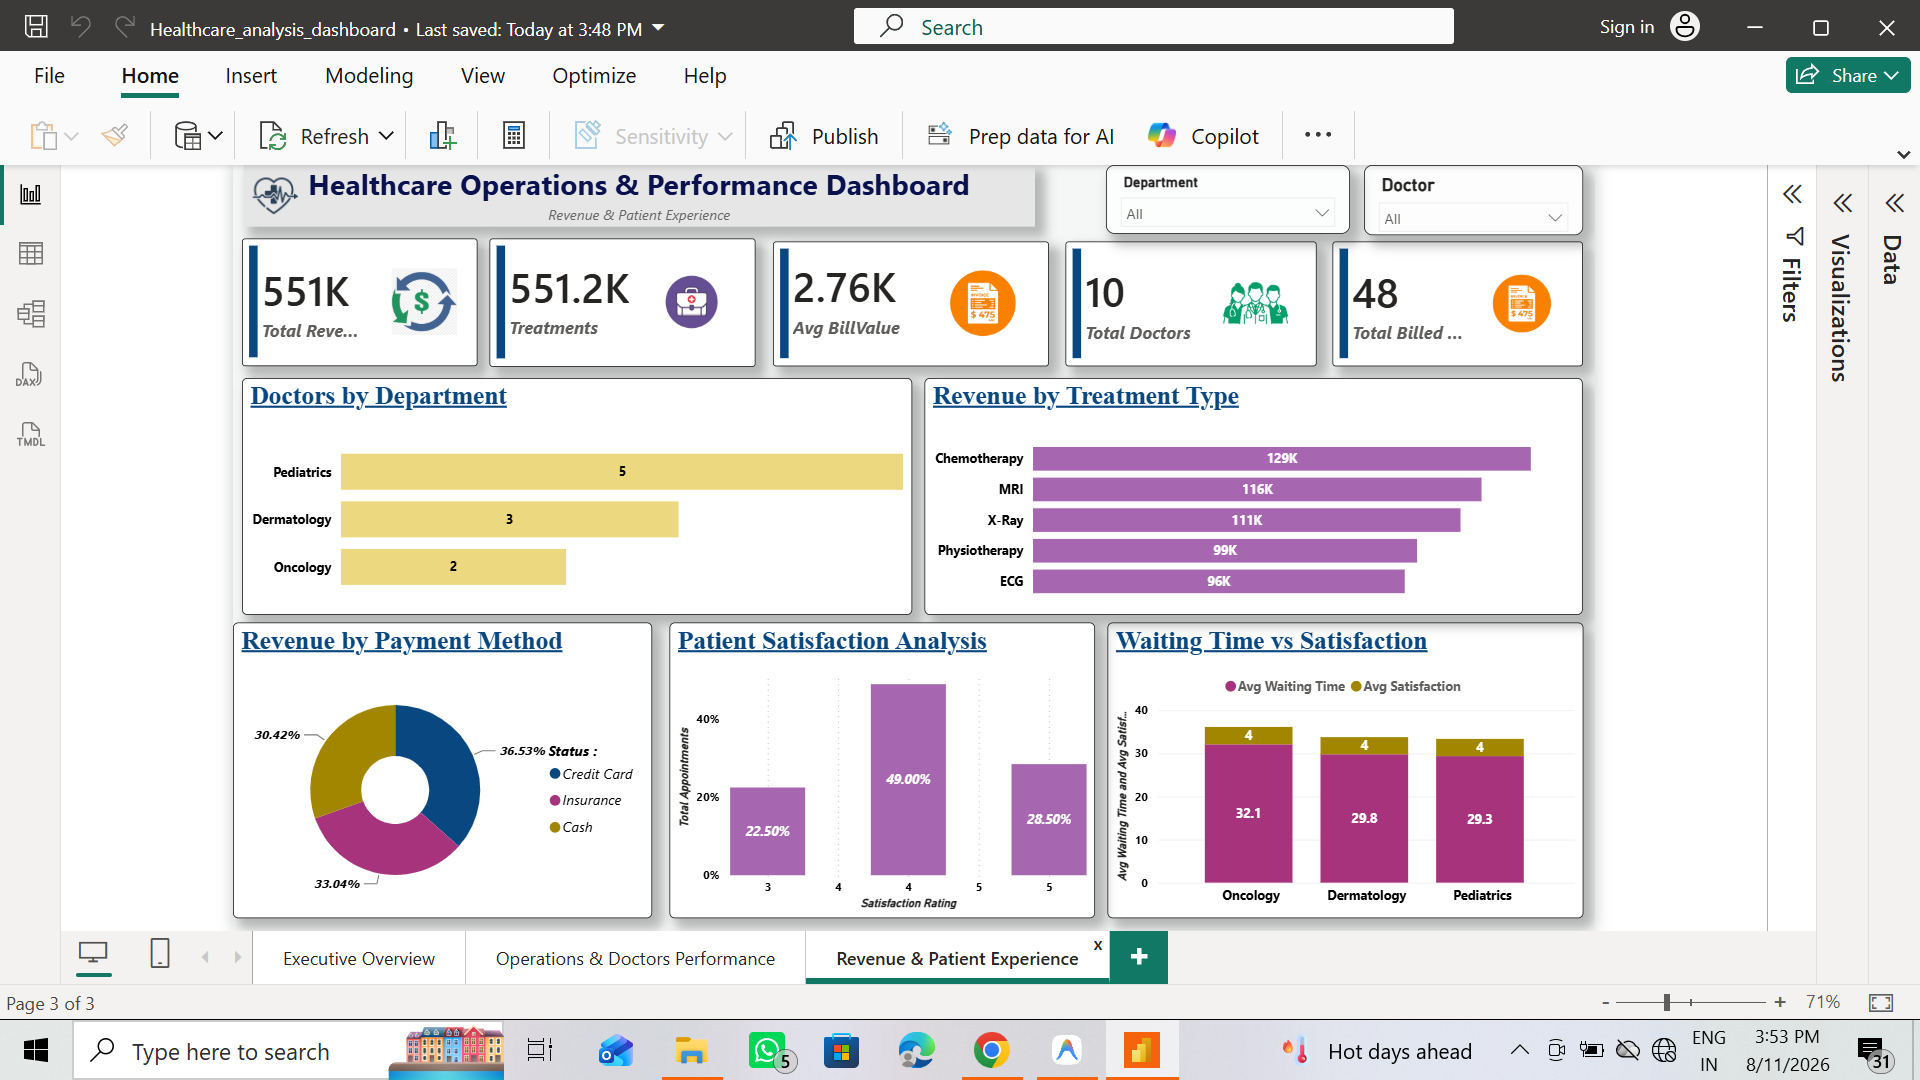

The dashboard page shown, as its layout file describes it:
{"tool":"powerbi","page":{"name":"Revenue & Patient Experience","canvas":[1280,720],"ordinal":2},"visuals":[{"type":"textbox","title":"Healthcare Operations & Performance Dashboard","box":[9.4,0,744,57.8],"z":0},{"type":"image","box":[0,0,76.6,57.8],"z":1000},{"type":"cardVisual","fields":{"Data":["All measures.Total Revenue"]},"box":[8.5,69.1,221.4,119.8],"z":2000},{"type":"cardVisual","fields":{"Data":["All measures.Treatments"]},"box":[240.7,68.8,250.1,120.4],"z":3000},{"type":"cardVisual","fields":{"Data":["All measures.Avg BillValue"]},"box":[508,71.9,259.5,117.2],"z":4000},{"type":"cardVisual","fields":{"Data":["All measures.Total Doctors"]},"box":[783.1,71.9,236,117.2],"z":5000},{"type":"cardVisual","fields":{"Data":["All measures.Total Billed Patients"]},"box":[1033.5,71.9,235.5,117],"z":6000},{"type":"slicer","fields":{"Values":["doctors.first_name"]},"box":[1063.1,0,205.9,66.3],"z":7000},{"type":"slicer","fields":{"Values":["doctors.specialization"]},"box":[820.9,0,229.3,64.7],"z":8000},{"type":"barChart","title":"Doctors by Department","fields":{"Category":["doctors.specialization"],"Y":["All measures.Total Doctors"]},"box":[9.1,199.9,629.9,222.6],"z":9000},{"type":"lineStackedColumnComboChart","title":"Waiting Time vs Satisfaction","fields":{"Category":["doctors.specialization"],"Y":["All measures.Avg Waiting Time","All measures.Avg Satisfaction"]},"box":[821.4,430.6,447.4,277.9],"z":10000},{"type":"donutChart","title":"Revenue by Payment Method","fields":{"Category":["billing.payment_method"],"Y":["All measures.Total Revenue"]},"box":[0,430.6,393.9,277.9],"z":11000},{"type":"clusteredBarChart","title":"Revenue by Treatment Type","fields":{"Category":["treatments.treatment_type"],"Y":["All measures.Total Revenue"]},"box":[650.4,200,618.4,222.9],"z":12000},{"type":"clusteredColumnChart","title":"Patient Satisfaction Analysis","fields":{"Category":["appointments.Satisfaction Rating"],"Y":["All measures.Total Appointments"]},"box":[410.7,430.6,400,277.9],"z":13000}]}

Visuals, with their boxes on the page's 1280x720 design canvas (x1, y1, x2, y2). These are canvas units, not pixel positions in the 1920x1080 screenshot, which may show the page scaled, cropped or inside an application window:
"Healthcare Operations & Performance Dashboard" textbox: 9:0:753:58
image: 0:0:77:58
cardVisual - All measures.Total Revenue: 8:69:230:189
cardVisual - All measures.Treatments: 241:69:491:189
cardVisual - All measures.Avg BillValue: 508:72:768:189
cardVisual - All measures.Total Doctors: 783:72:1019:189
cardVisual - All measures.Total Billed Patients: 1034:72:1269:189
slicer - doctors.first_name: 1063:0:1269:66
slicer - doctors.specialization: 821:0:1050:65
"Doctors by Department" barChart: 9:200:639:422
"Waiting Time vs Satisfaction" lineStackedColumnComboChart: 821:431:1269:708
"Revenue by Payment Method" donutChart: 0:431:394:708
"Revenue by Treatment Type" clusteredBarChart: 650:200:1269:423
"Patient Satisfaction Analysis" clusteredColumnChart: 411:431:811:708
